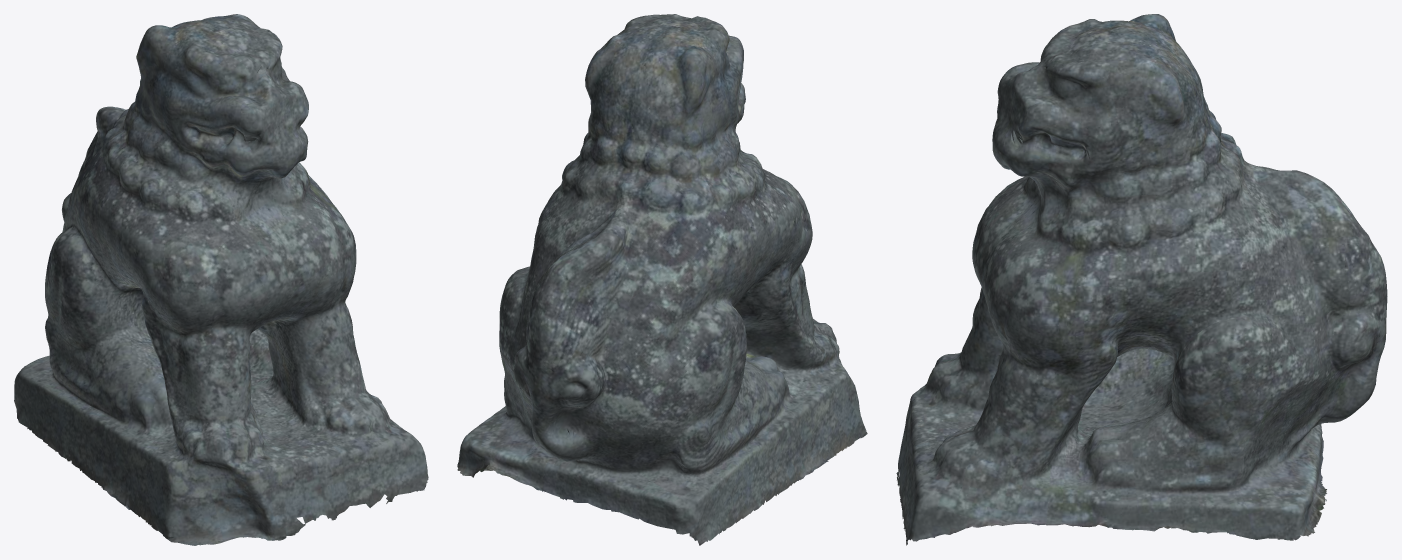
The model's file is lion.glb.
The picture shows the model from 3 angles, left to right: view 1: azimuth 30°, elevation 25°; view 2: azimuth 150°, elevation 25°; view 3: azimuth 270°, elevation 25°; orthographic projection. The views are drawn at different scales.
Visible parts, largest first — view 1: Object_2; view 2: Object_2; view 3: Object_2.
Boxes of the visible parts, <box> form: Object_2: <box>14,14,428,545</box>; Object_2: <box>457,14,867,545</box>; Object_2: <box>896,14,1387,545</box>.
Bounding box in the file's own units: 0.751 × 1.23 × 1.17.
1 material, 1 textured.
